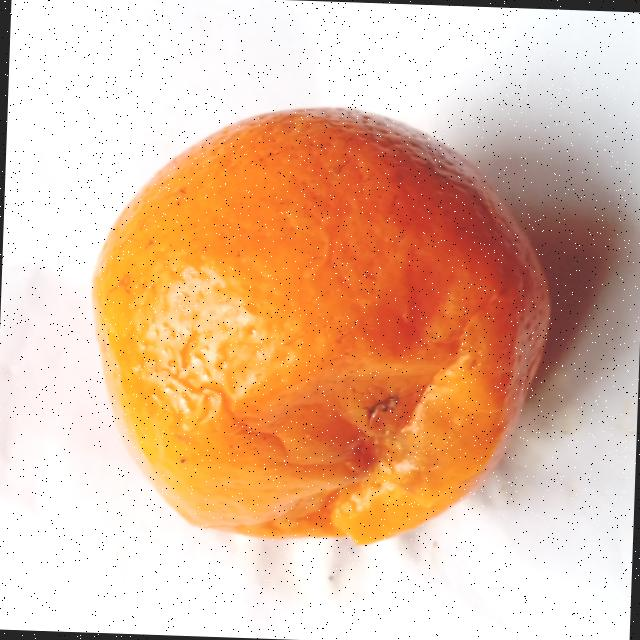Rotten: (80, 96, 561, 554)
